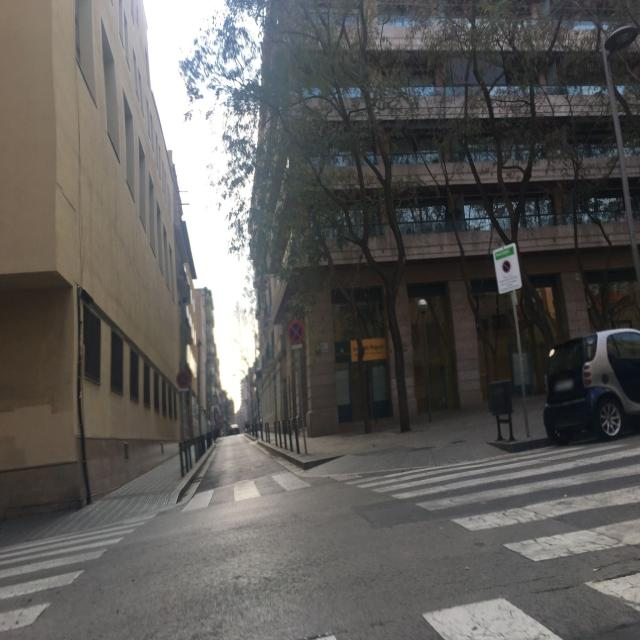forb_stopping: (502, 260, 511, 273)
forb_waiting: (289, 319, 306, 344)
